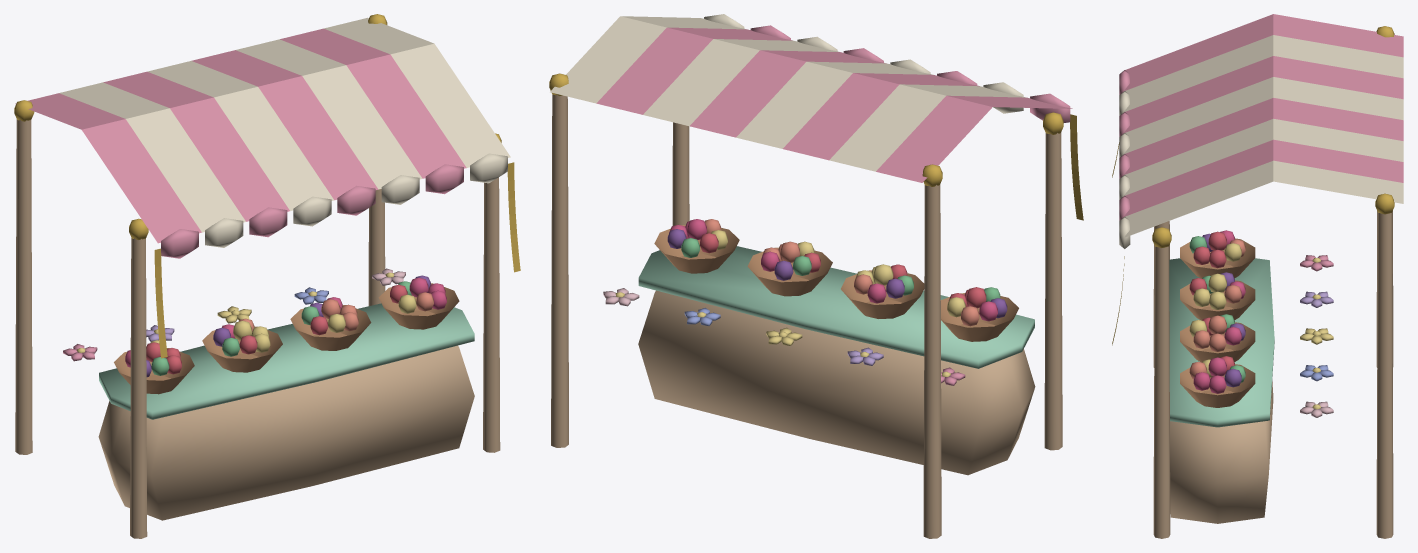
Rendered from fae_market_stall_a.gltf.
The picture shows the model from 3 angles, left to right: view 1: azimuth 30°, elevation 25°; view 2: azimuth 150°, elevation 25°; view 3: azimuth 270°, elevation 25°; orthographic projection. The views are drawn at different scales.
Parts seen in each view (by area): view 1: fae_market_stall_a; view 2: fae_market_stall_a; view 3: fae_market_stall_a.
Part boxes in pixels (bbox=[...]): fae_market_stall_a: bbox=[14, 14, 520, 538]; fae_market_stall_a: bbox=[549, 14, 1083, 538]; fae_market_stall_a: bbox=[1112, 14, 1403, 538].
Size of what is drawn, in the model's own units: 3.38 by 3.15 by 2.35.
